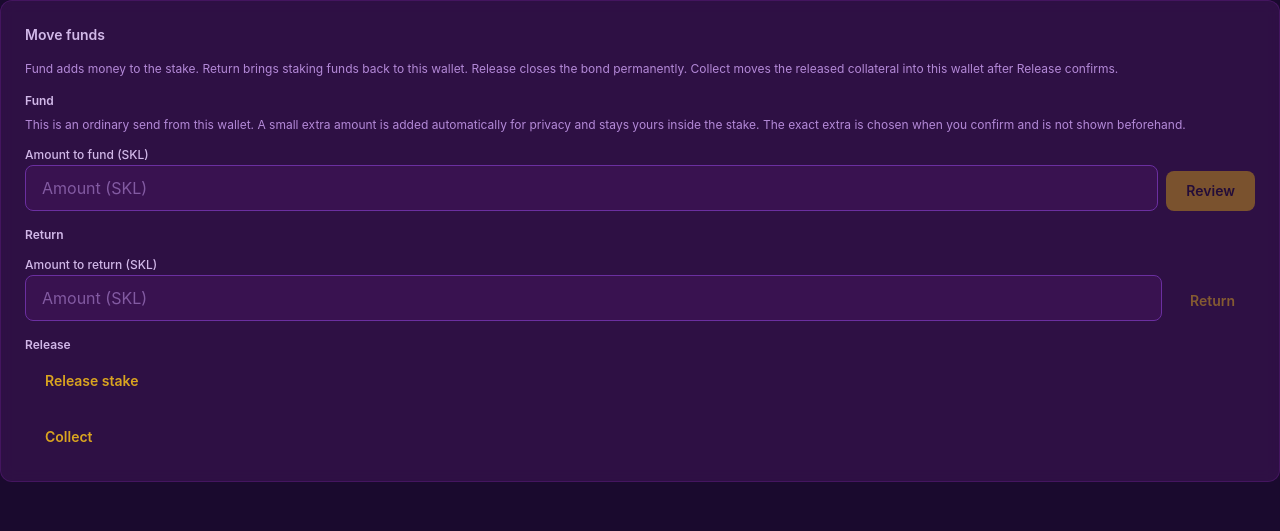
Test: StakeActions fund reservation › refuses a fund of zero before it reserves anything
Type "0" into the field with placeholder "Amount (SKL)".
click(592, 188); type("0")  # box [25, 165, 1158, 211]
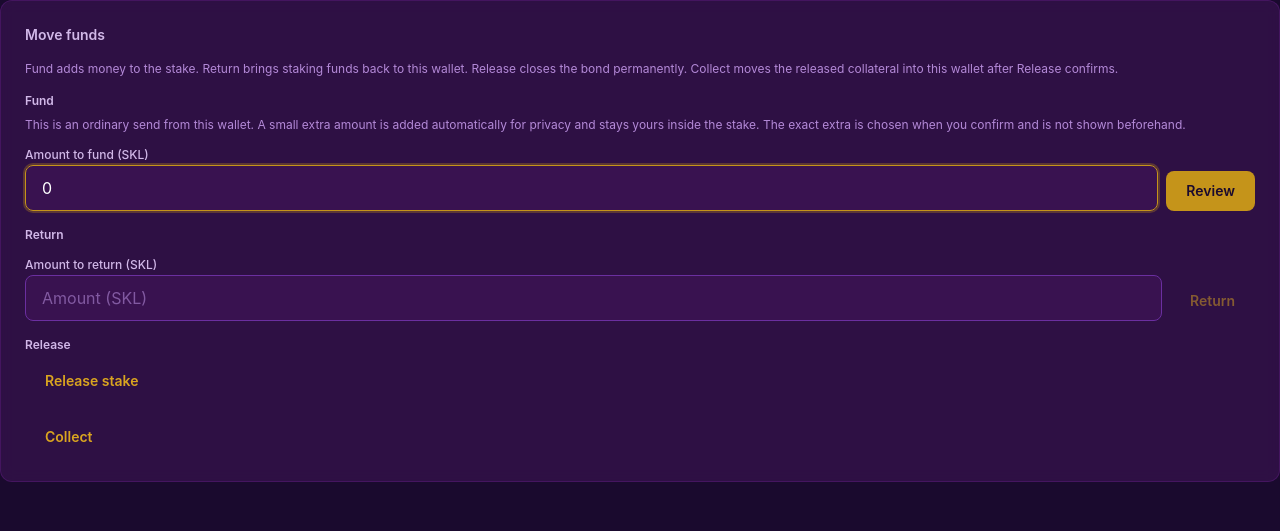
Click the button "Review".
click(1211, 191)  # box [1166, 171, 1255, 211]
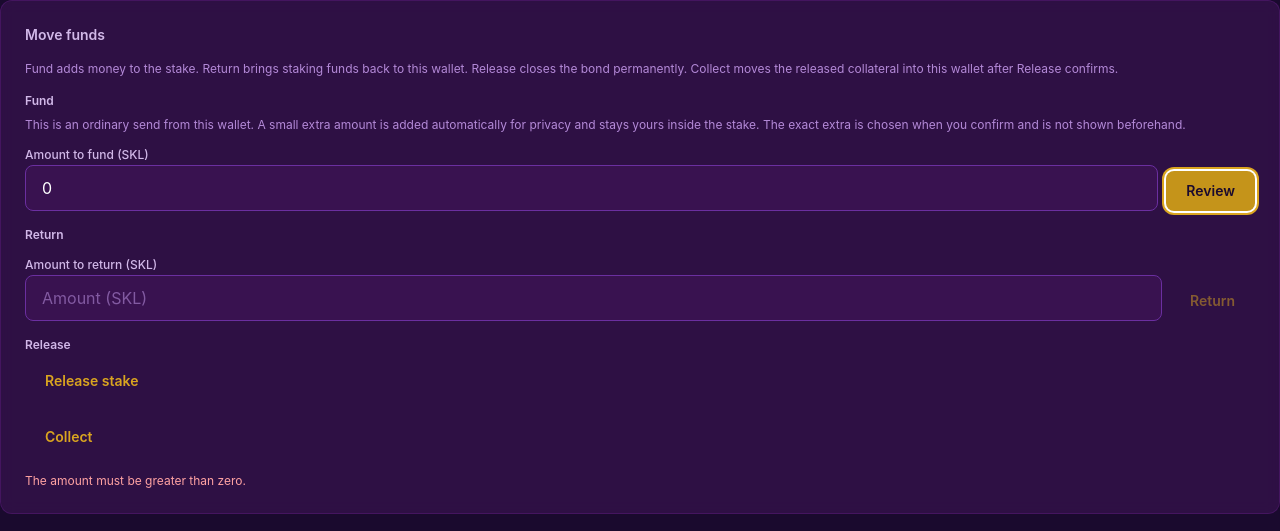
Now the text "The amount must be greater than zero." is shown, box [25, 473, 246, 488]
